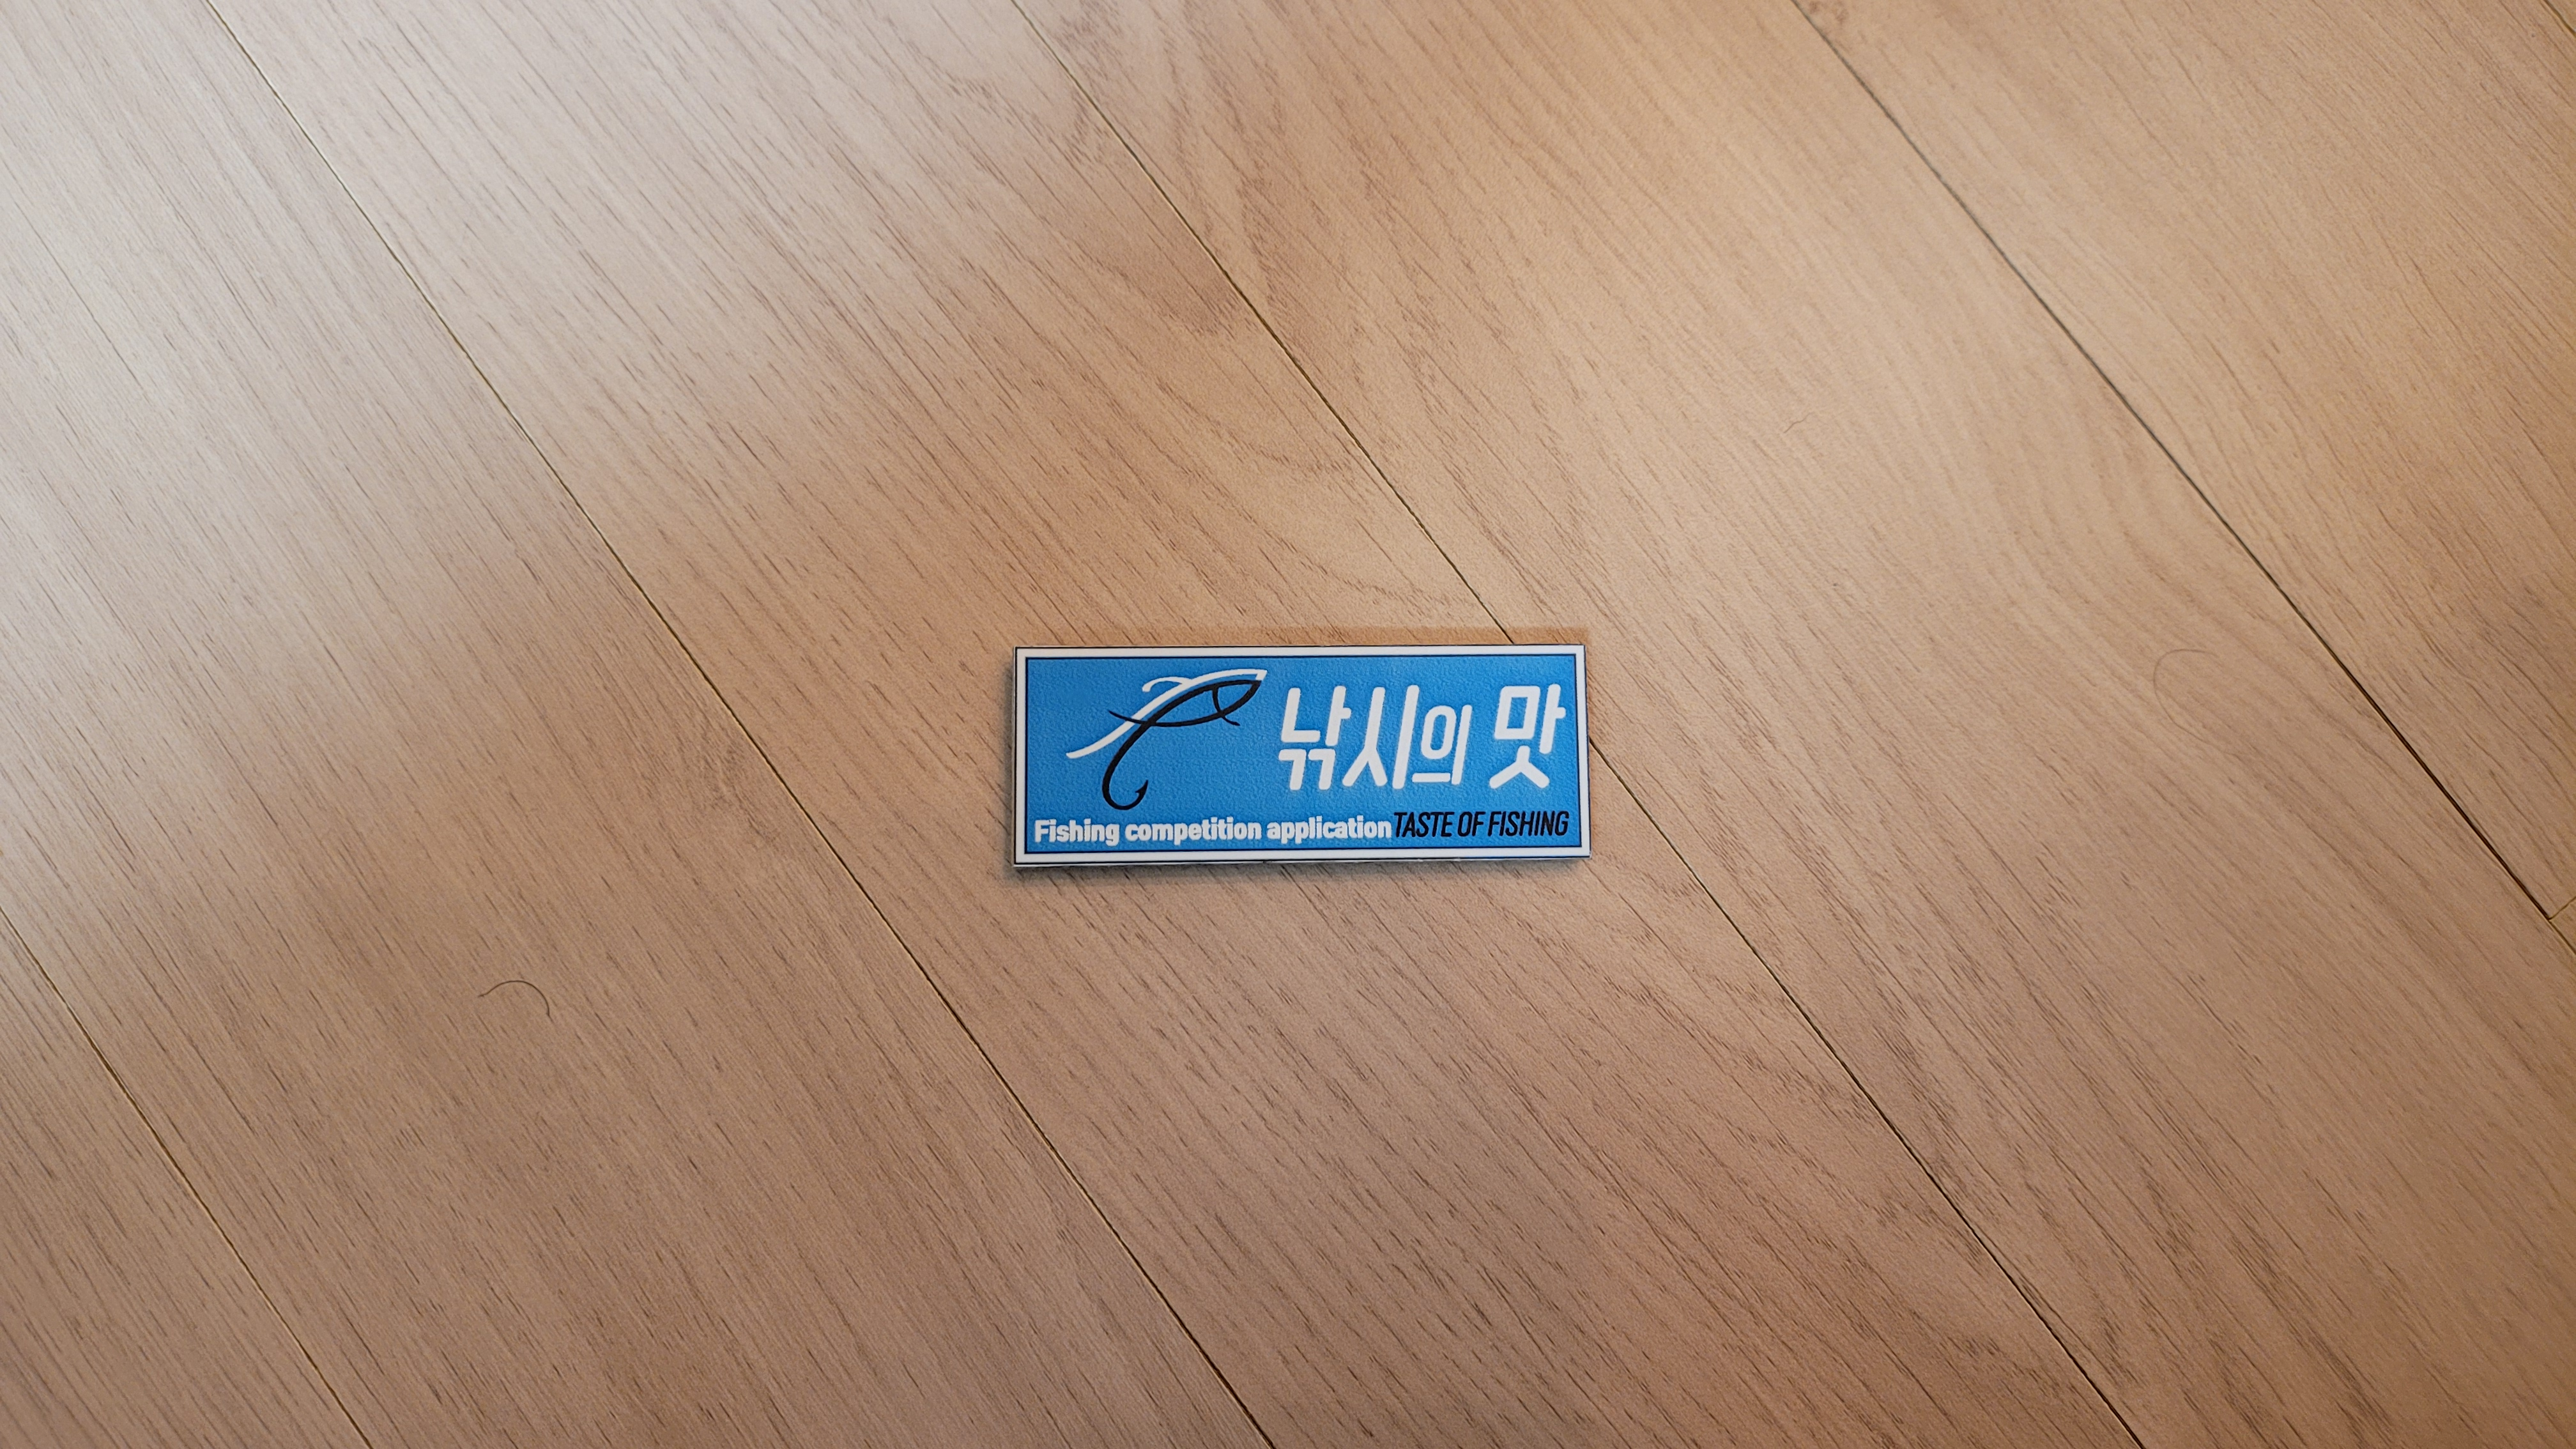tag: (1007, 648, 1592, 865)
